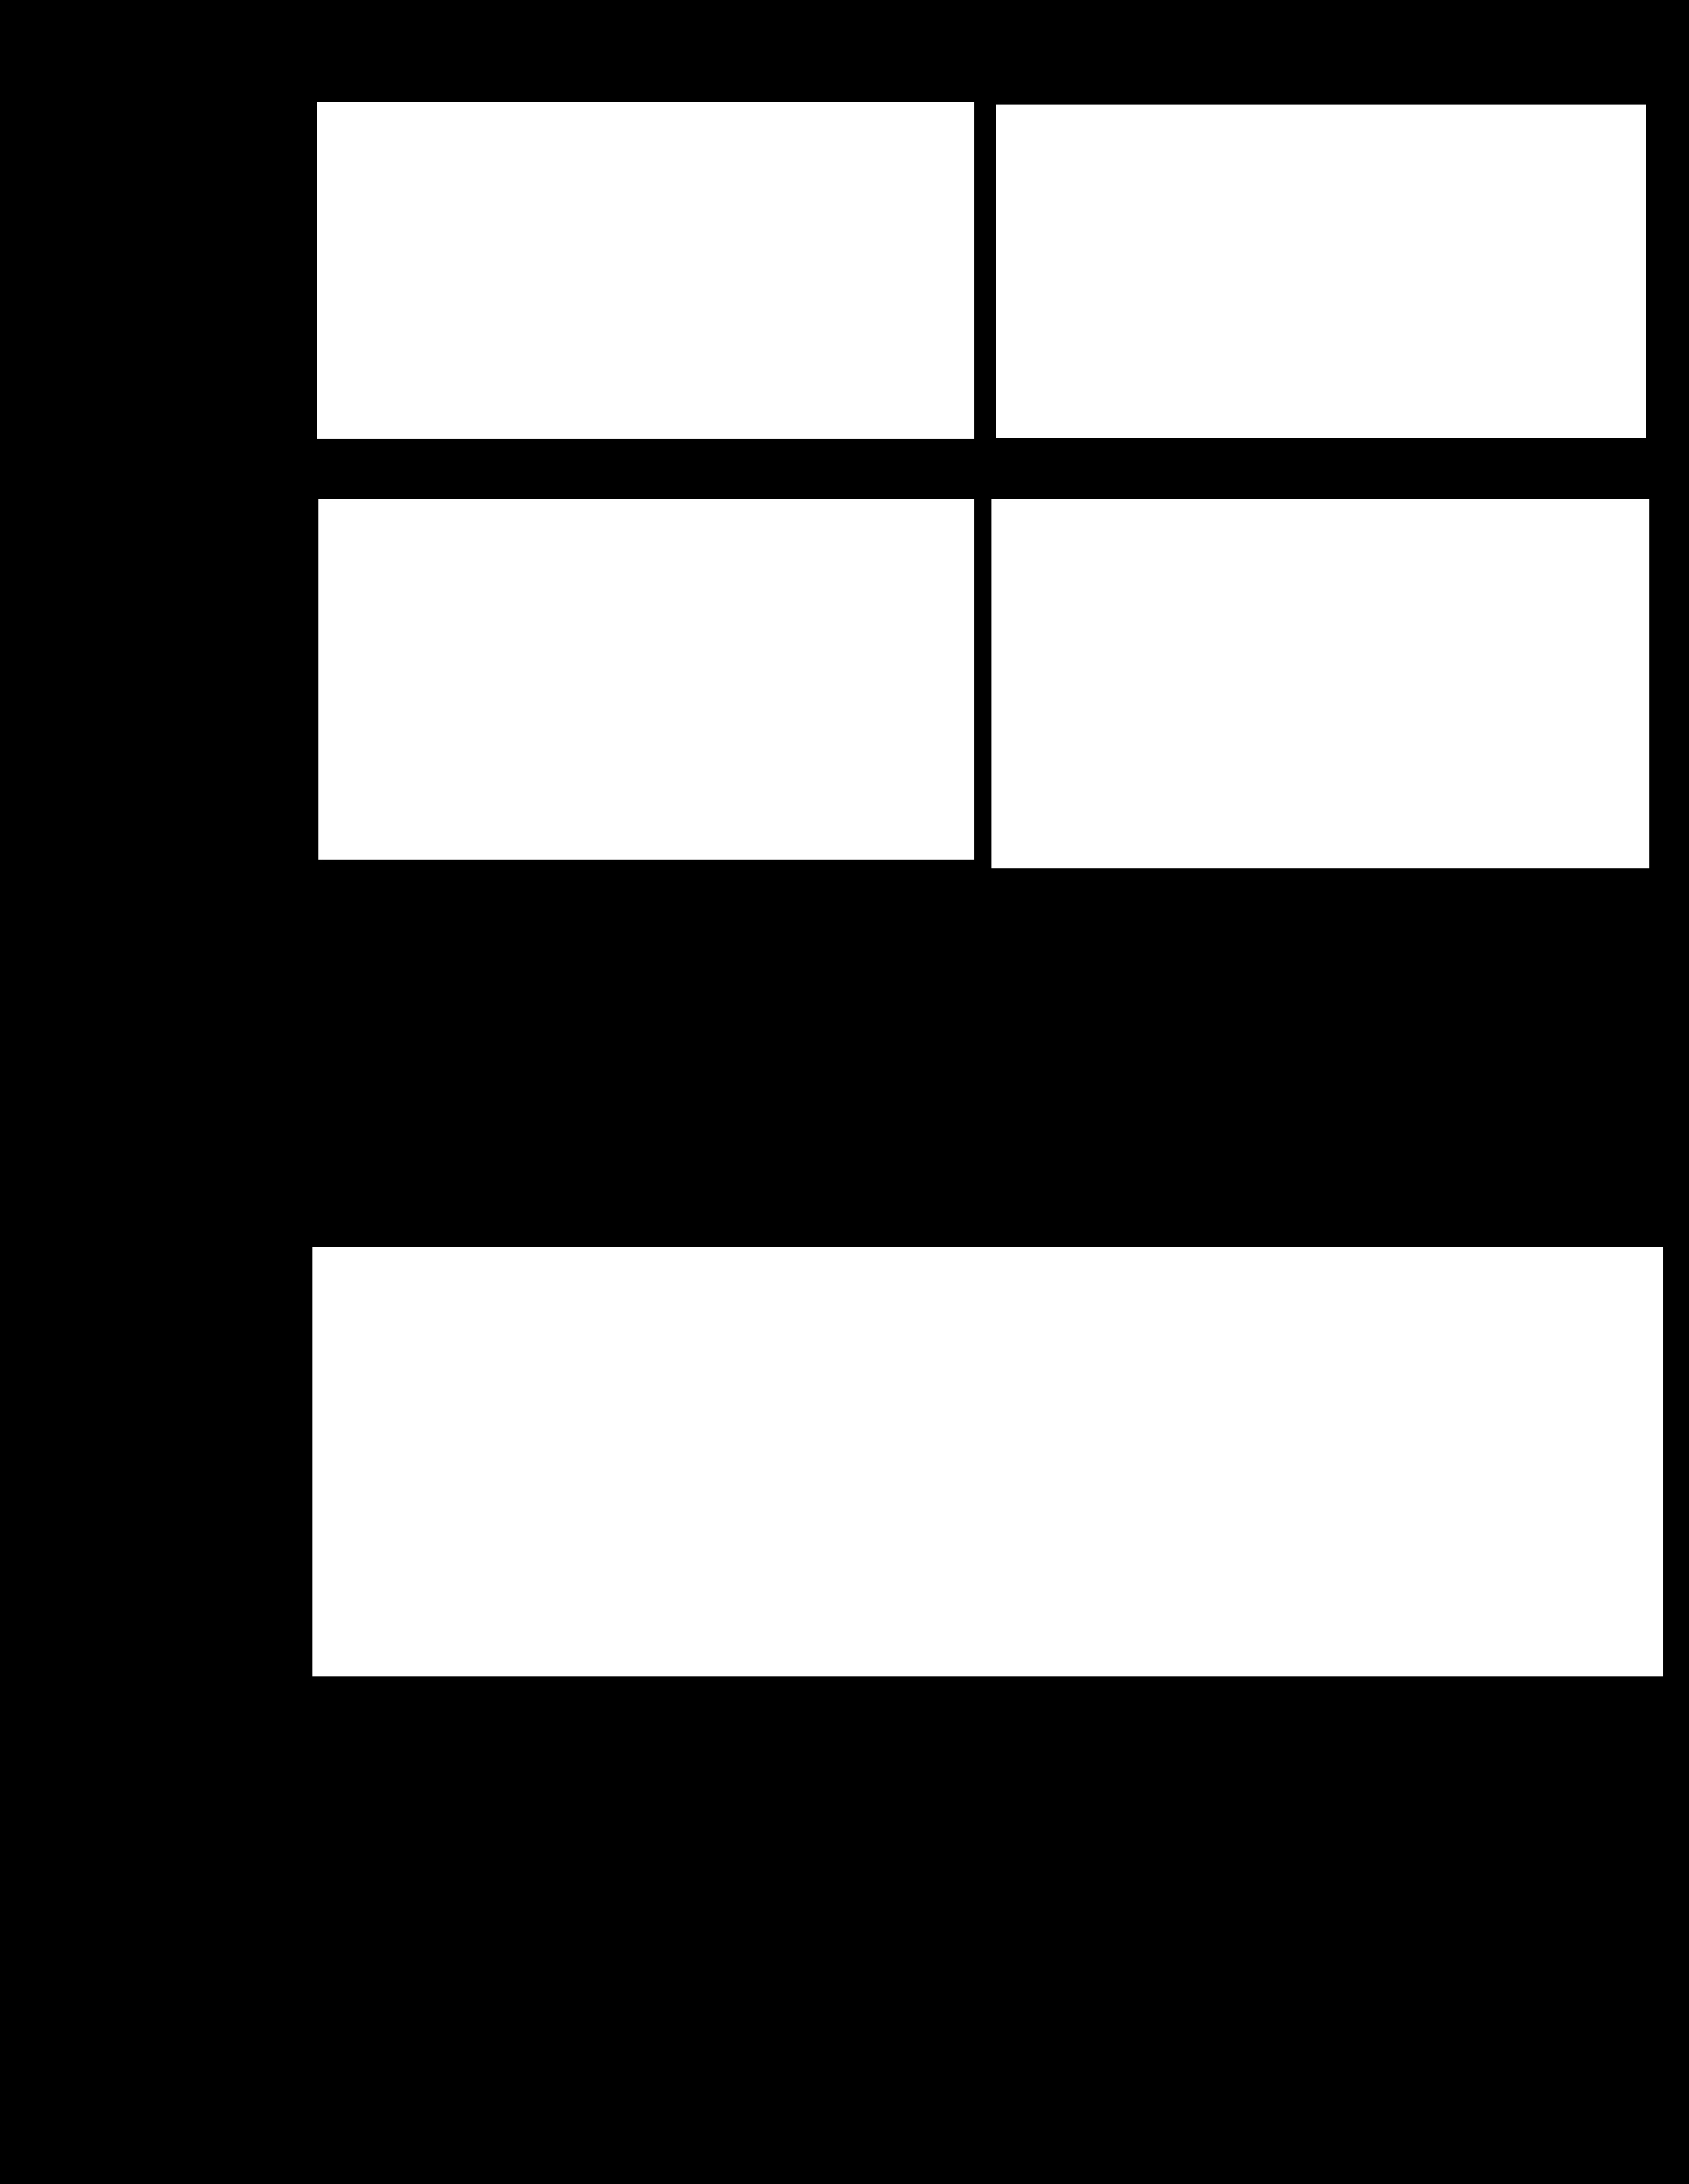table: (312, 1246, 1662, 1675), (991, 498, 1648, 867), (319, 498, 973, 860), (317, 101, 973, 438), (996, 105, 1645, 438)
